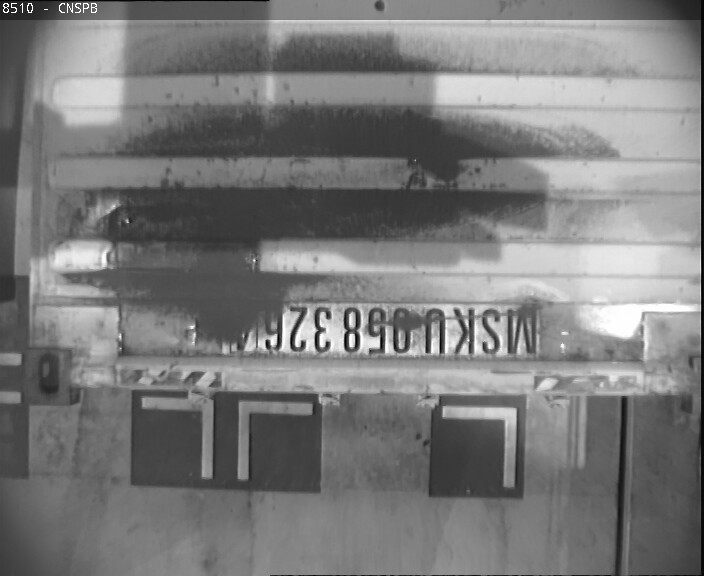groundmarker_1: (139, 395, 311, 479)
